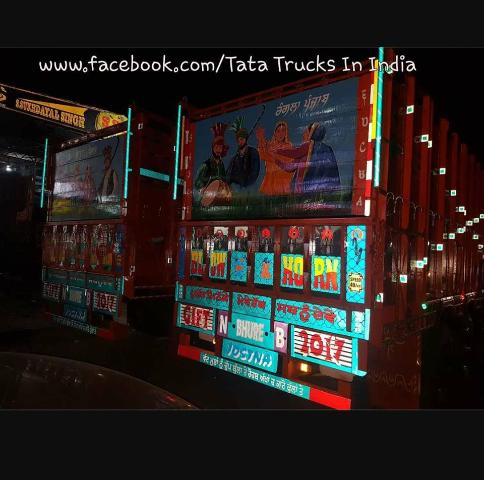truck: (171, 47, 484, 417), (36, 111, 175, 339)
